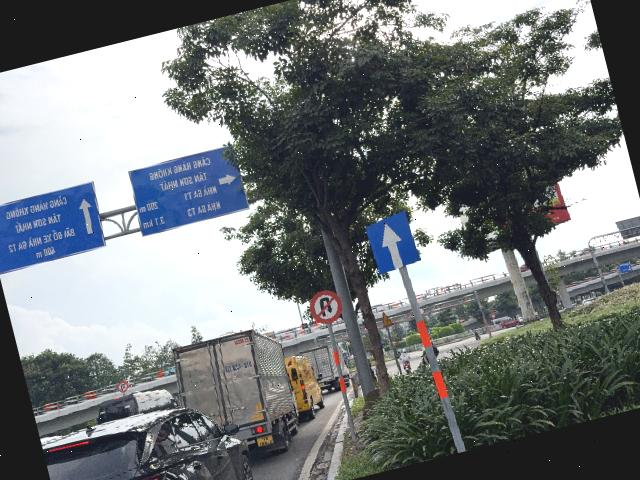cam-quay-dau-xe: (306, 287, 344, 327)
duong-mot-chieu: (364, 210, 422, 276)
